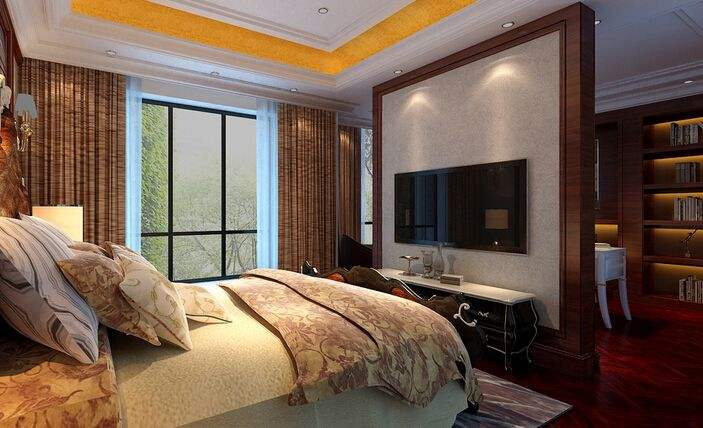床: (0, 271, 470, 428)
枕头: (9, 224, 184, 356)
灯: (30, 202, 87, 243), (13, 91, 39, 153), (484, 208, 513, 250), (314, 6, 331, 17), (498, 21, 515, 31), (102, 48, 117, 58), (286, 85, 301, 93), (391, 68, 404, 76)
